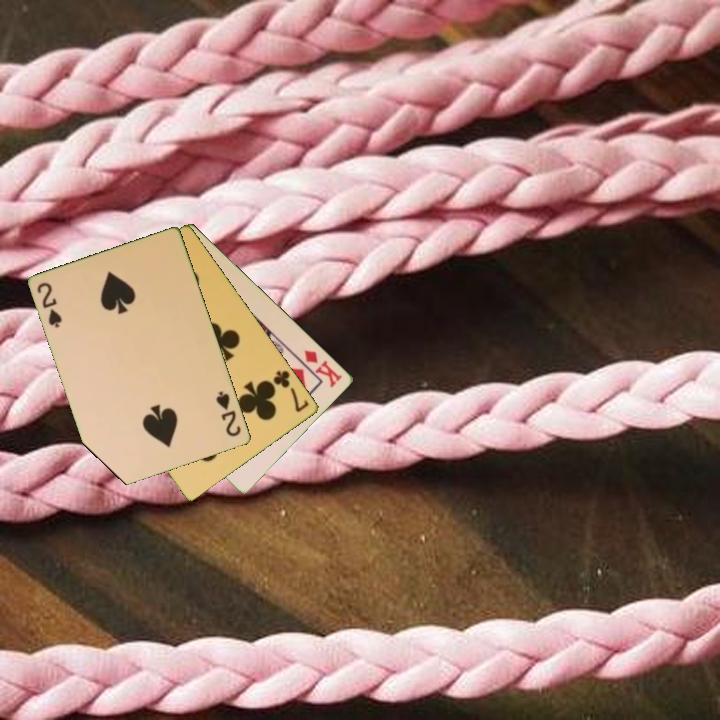2s: (213, 387, 244, 440), (34, 279, 65, 331)
7c: (270, 367, 312, 415)
Kd: (301, 346, 345, 390)
